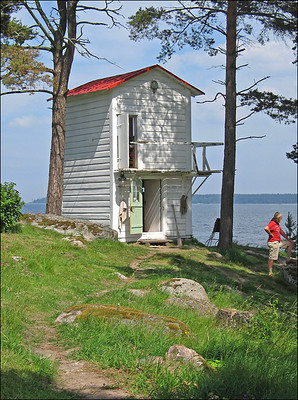low: (61, 62, 203, 242)
